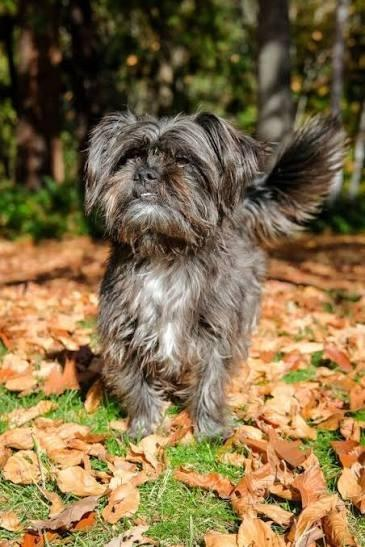adult_dog: (79, 100, 353, 445)
